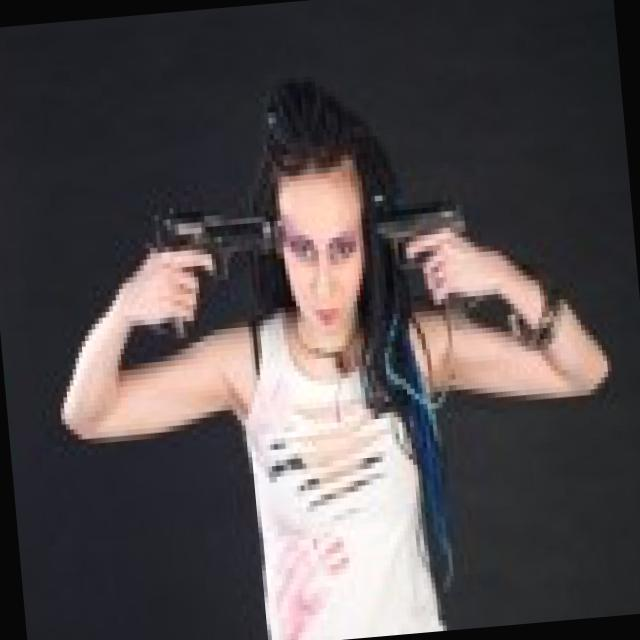handgun: (126, 194, 286, 346), (355, 188, 471, 310)
